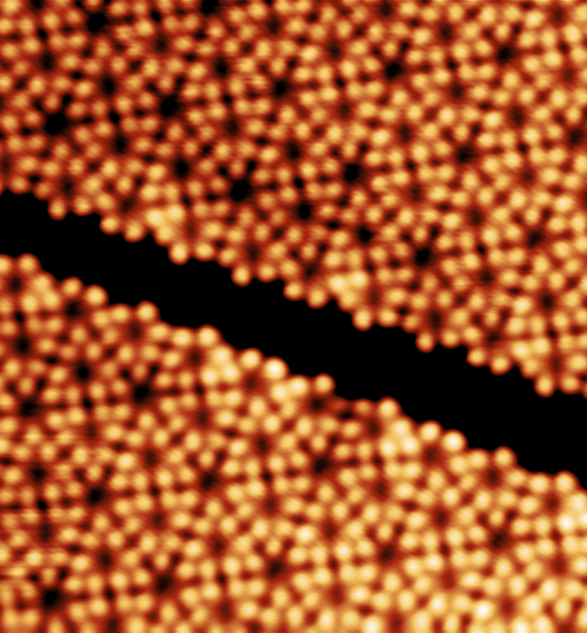L: (218, 347, 289, 418), (21, 90, 91, 162), (135, 71, 205, 143), (248, 54, 318, 126), (360, 36, 430, 108), (471, 19, 541, 91), (431, 120, 501, 192), (320, 138, 390, 210), (207, 156, 277, 228), (500, 204, 570, 276), (390, 221, 460, 293), (130, 550, 200, 622), (243, 537, 313, 609), (354, 521, 424, 593), (466, 507, 536, 579), (288, 432, 358, 504), (176, 447, 246, 519), (63, 461, 133, 533), (108, 359, 178, 431), (398, 419, 467, 490), (94, 173, 165, 241), (17, 565, 88, 633), (461, 305, 531, 373), (41, 276, 109, 346), (1, 374, 66, 446), (278, 241, 348, 306), (66, 1, 136, 58)
R: (12, 32, 82, 97), (73, 53, 143, 118), (123, 12, 193, 77), (186, 34, 256, 99), (298, 17, 368, 82), (409, 1, 479, 66), (421, 60, 491, 125), (308, 79, 378, 144), (83, 112, 153, 177), (196, 96, 266, 161), (482, 84, 552, 149), (491, 145, 561, 210), (368, 101, 438, 166), (257, 119, 327, 184), (144, 137, 214, 202), (33, 154, 103, 219), (155, 198, 225, 263), (217, 220, 287, 285), (267, 180, 337, 245), (329, 203, 399, 268), (380, 161, 450, 226), (441, 186, 511, 251), (450, 245, 520, 310), (338, 263, 408, 328), (401, 286, 471, 351), (510, 270, 580, 335), (100, 300, 170, 365), (161, 325, 231, 390), (277, 371, 347, 436), (341, 397, 411, 462), (456, 446, 526, 511), (517, 471, 587, 536), (48, 339, 118, 404), (167, 387, 237, 452), (226, 411, 296, 476), (346, 458, 416, 523), (405, 486, 475, 551), (55, 401, 125, 466), (114, 426, 184, 491), (235, 474, 305, 539), (293, 500, 363, 565), (413, 548, 483, 613), (300, 563, 370, 628), (182, 514, 252, 579), (2, 440, 72, 505), (121, 488, 191, 553), (9, 503, 79, 568), (70, 528, 140, 593), (523, 534, 587, 602), (521, 331, 587, 395), (236, 1, 306, 61), (473, 573, 543, 633), (189, 576, 260, 633), (1, 314, 57, 378), (534, 44, 587, 108)
